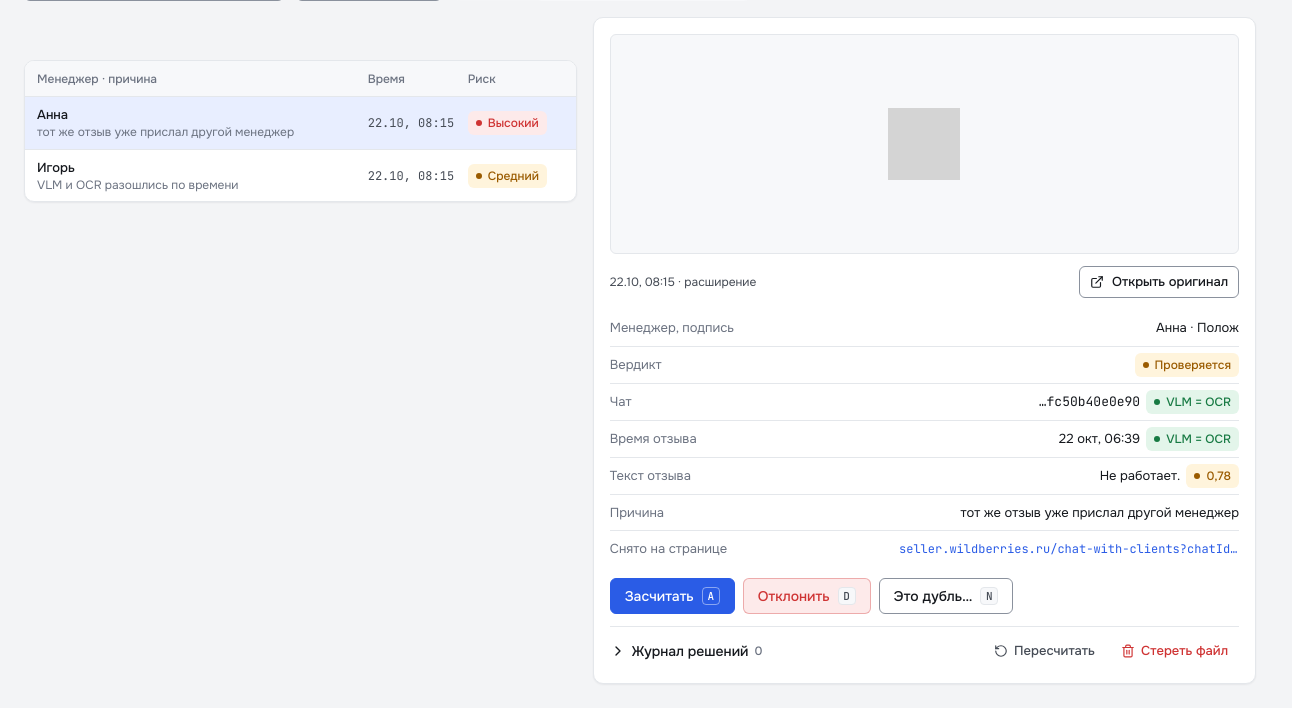
Test: ScreenshotsPage › approves with the button and moves to the next screenshot
The width and height of the screenshot is (1292, 708).
(page scrolled)
Expected: the element named "Скриншот Анна" is shown, [593,17,1256,684]
Click the button "Засчитать A".
click(672, 596)  # box [610,578,735,614]
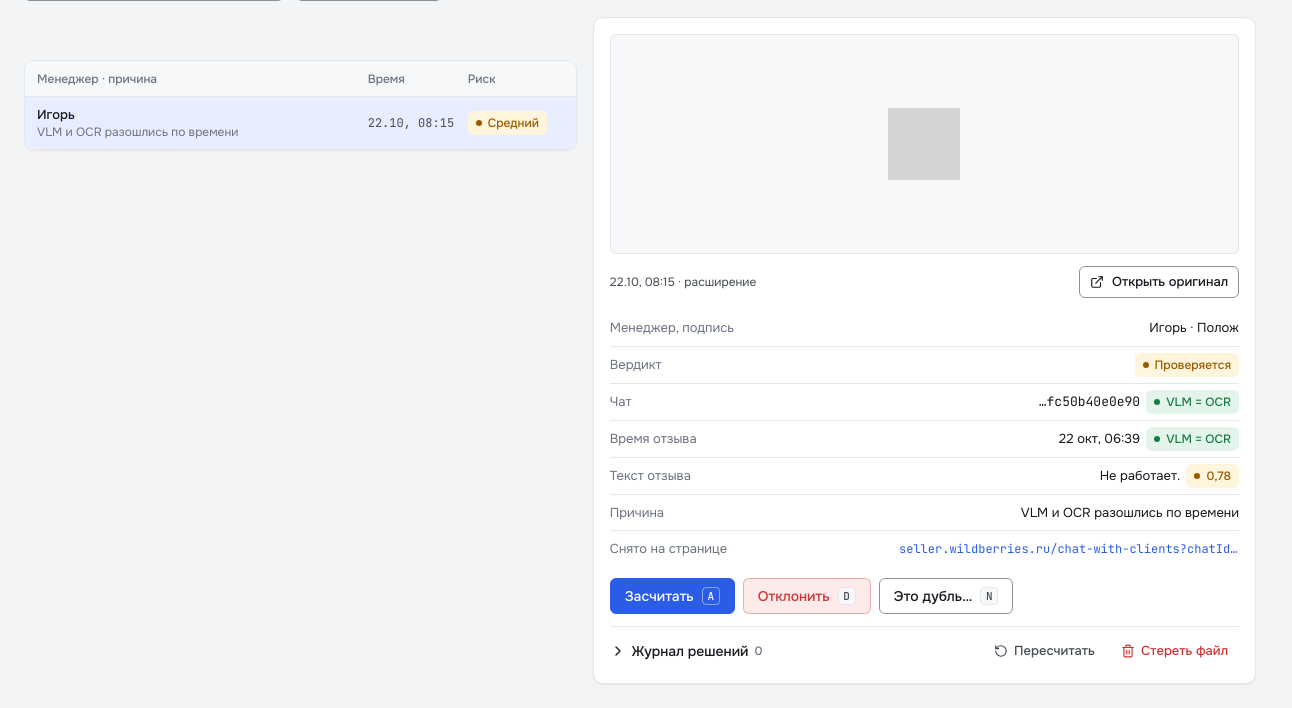
Expected: the element named "Скриншот Игорь" is shown, [593,17,1256,684]
